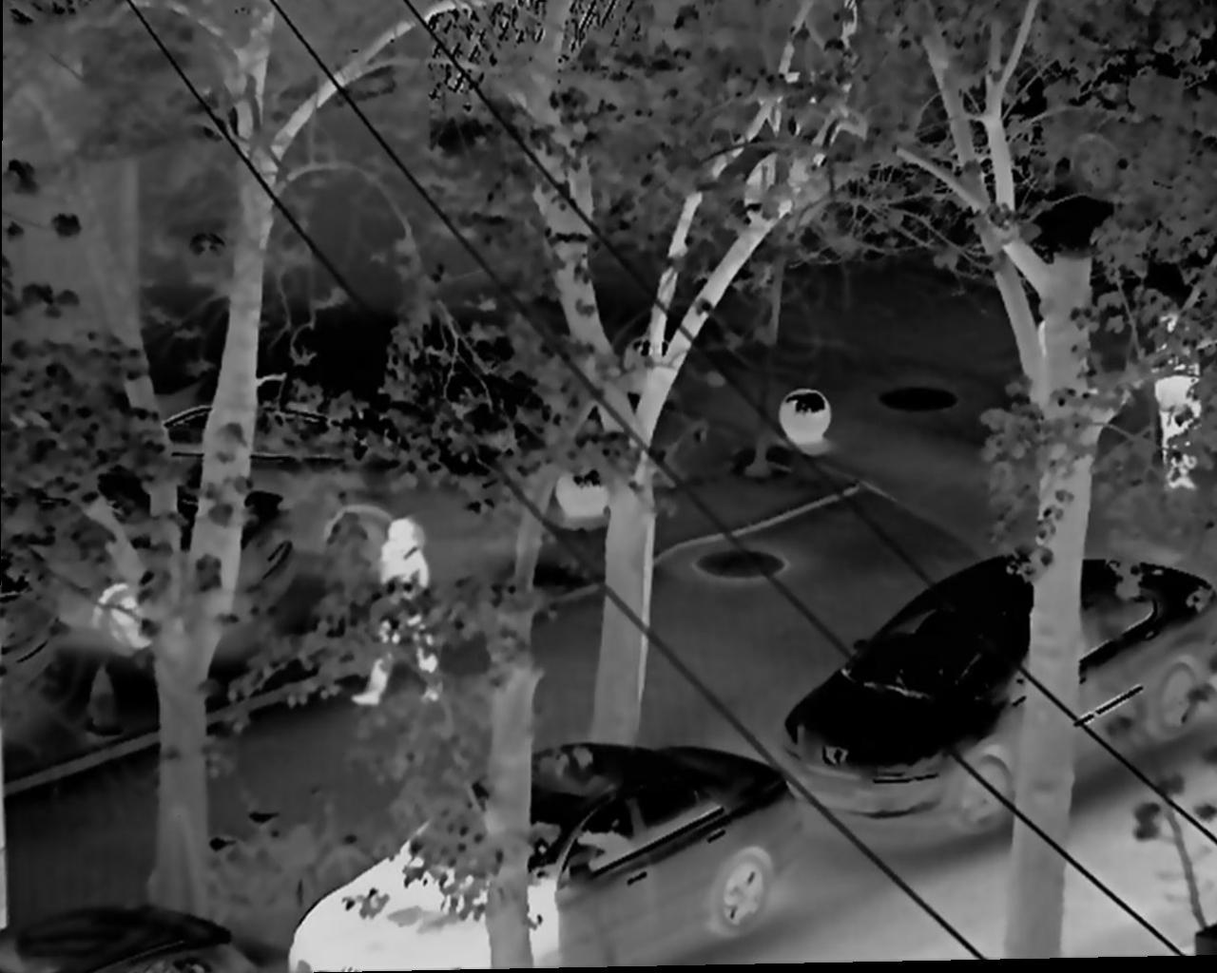person: (354, 525, 455, 710), (1142, 297, 1214, 499)
